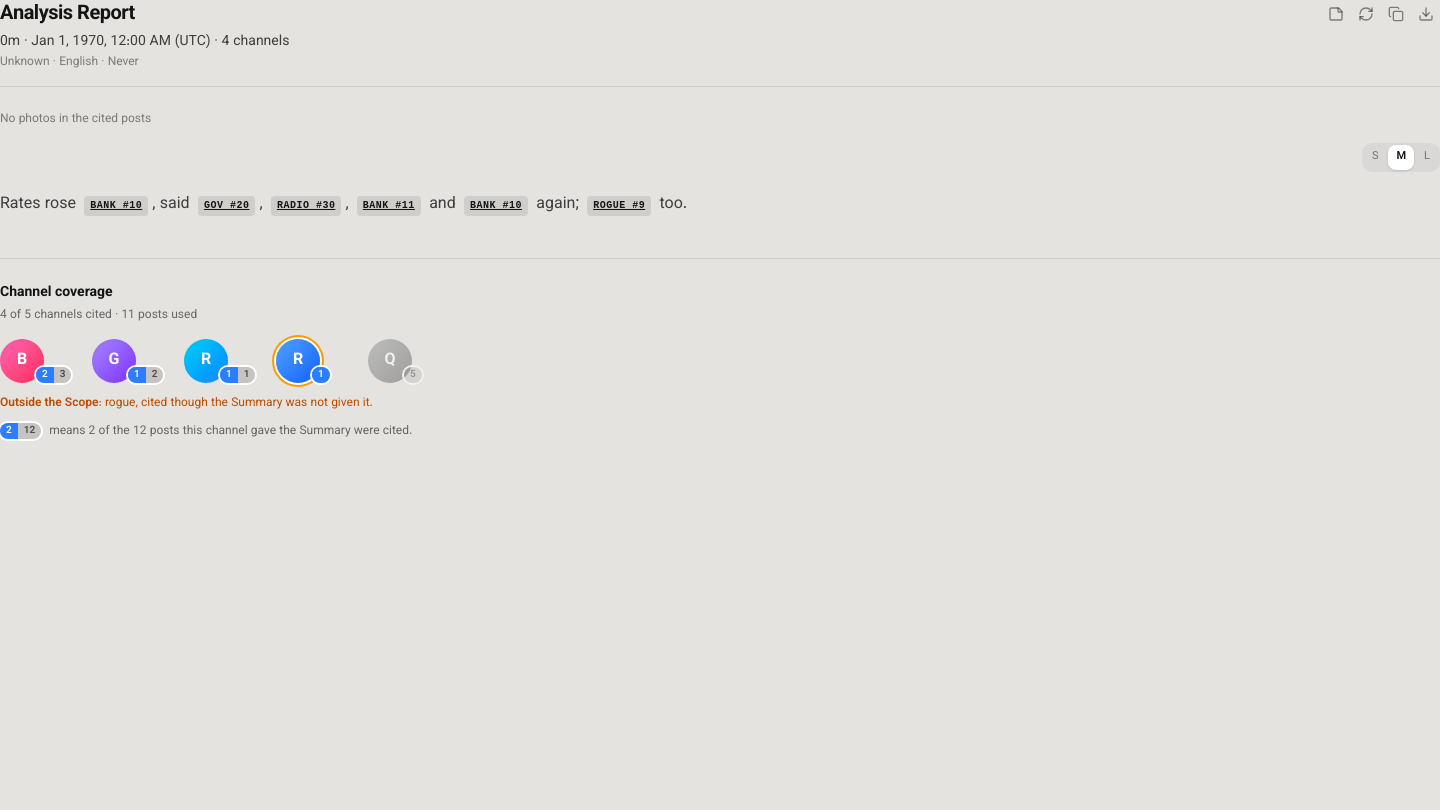
Scenario: the Channel posts sheet › tapping an avatar highlights its Citations and lists Cited Posts before the rest
Click the button "B 2 3": coordinates (22, 360) [0,338,44,382]
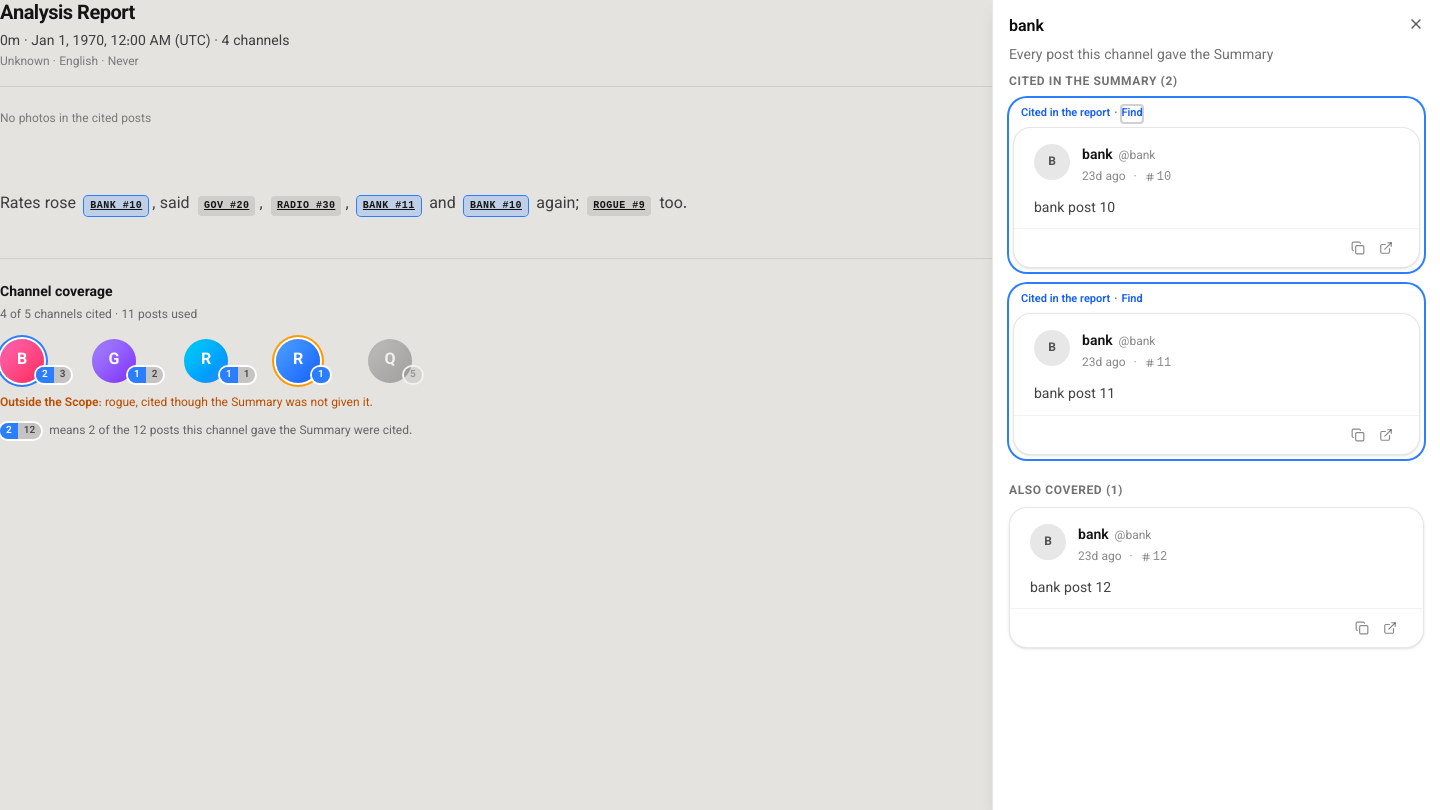
Check: the heading "Cited in the summary (2)" is shown, box [1009,74,1178,91]
Check: the heading "Also covered (1)" is shown, box [1009,482,1123,500]
Check: the text "Cited in the report" is shown 2 times, box [1021,106,1110,122]; [1021,292,1110,309]
Click the button "G 1 2": coordinates (114, 360) [92,338,136,382]
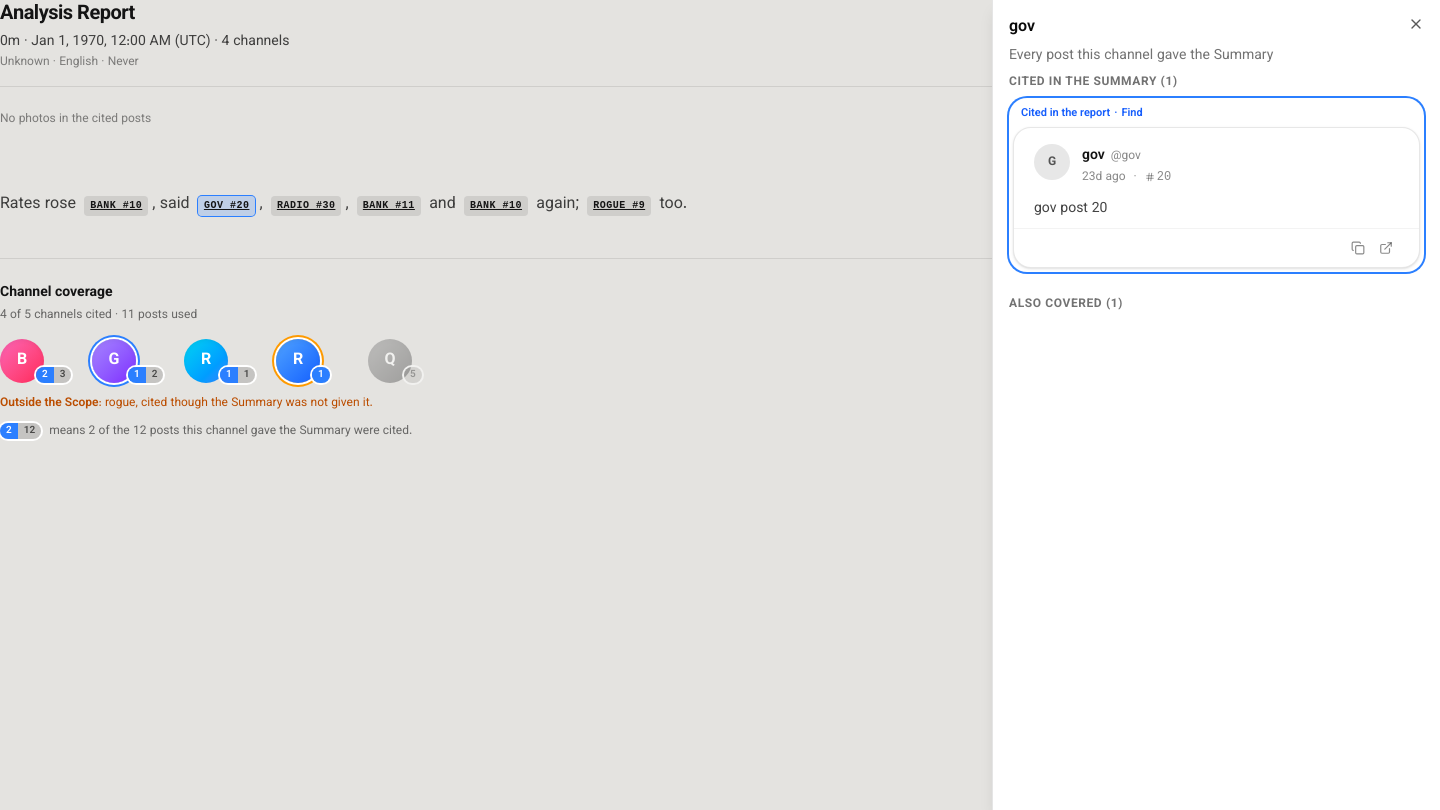
Check: the dialog "gov" is shown, box [992,0,1439,809]
Click the button "G 1 2": coordinates (114, 360) [92,338,136,382]
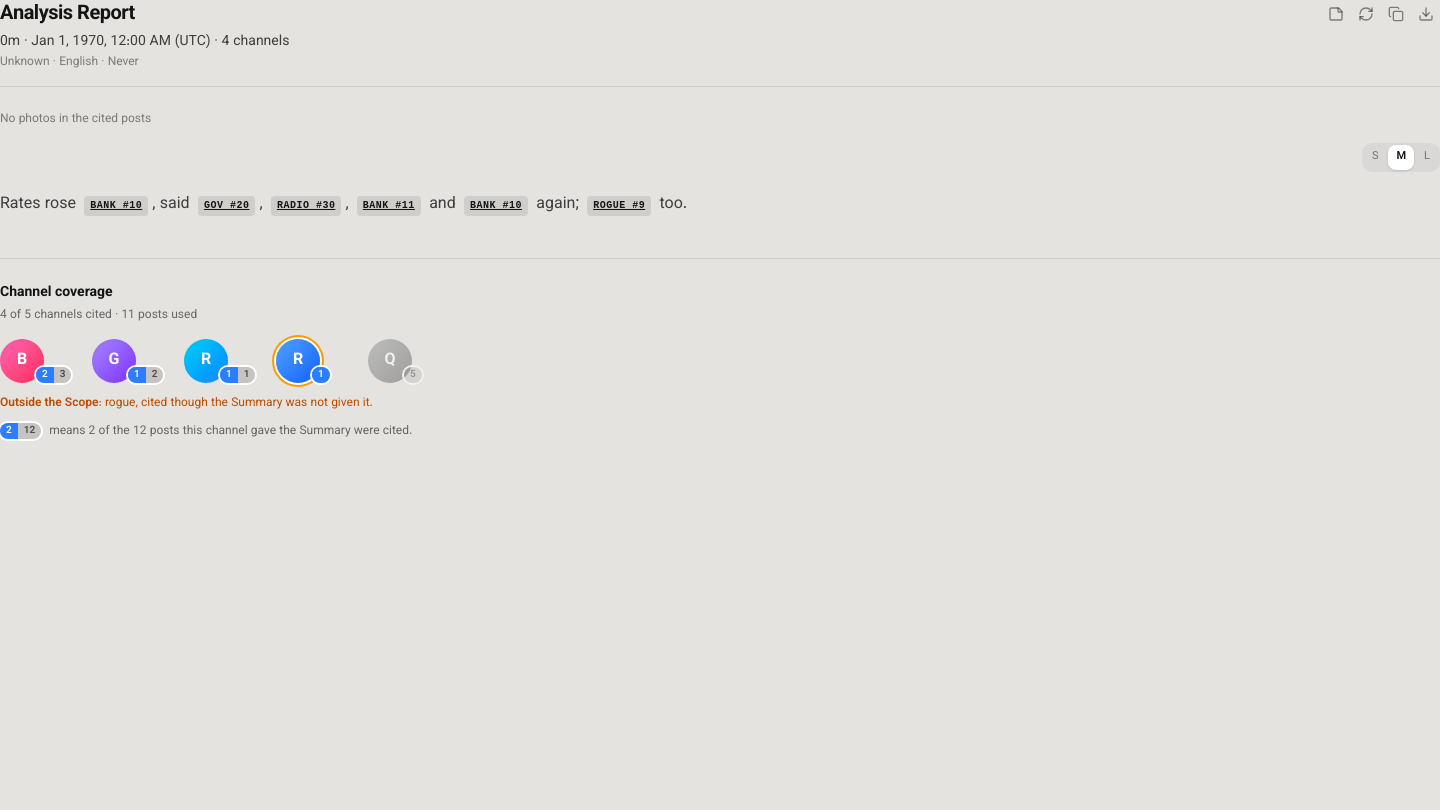
Check: the dialog is gone
